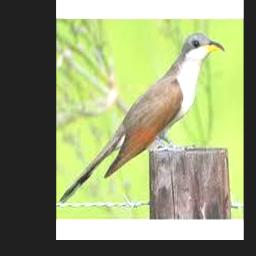Cuckoo: (61, 32, 224, 203)
